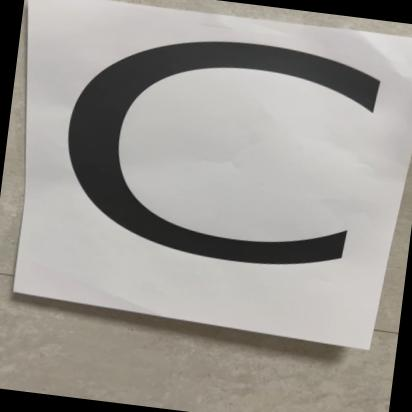seat: (13, 0, 412, 342)
